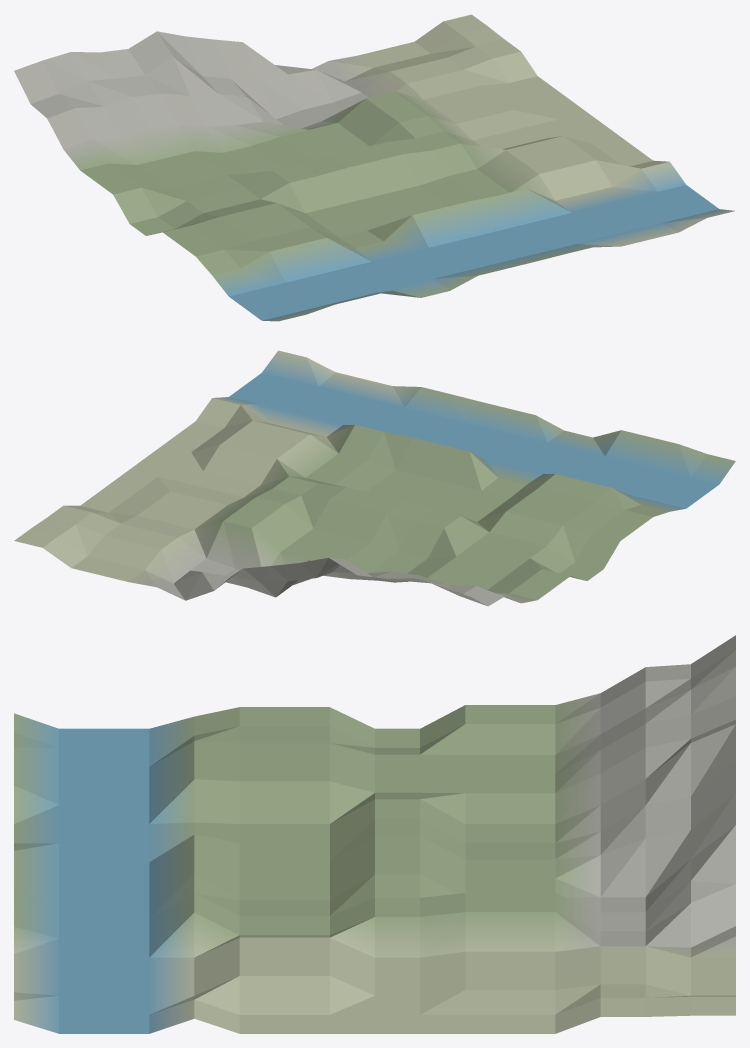
3 renders of one model, top to bottom at view 1: azimuth 30°, elevation 25°; view 2: azimuth 150°, elevation 25°; view 3: azimuth 270°, elevation 25°, orthographic. The views are drawn at different scales.
Size of the model in its own units: 32 by 5.7 by 32.
